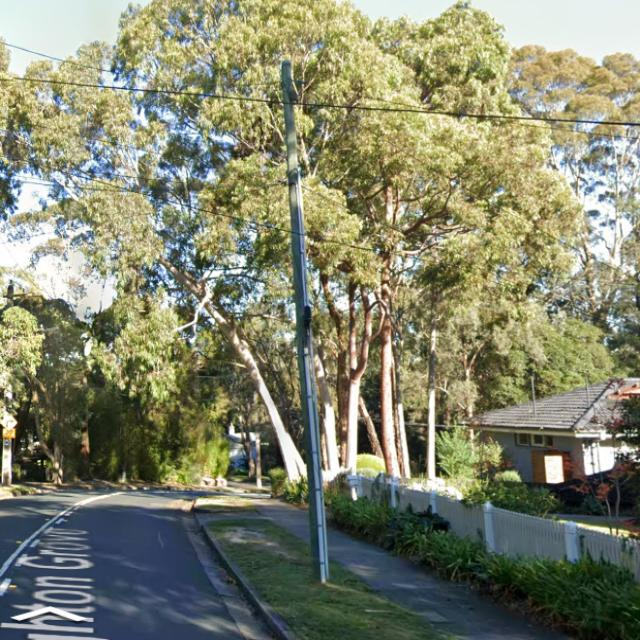timber-pole: (279, 59, 322, 582)
top mount suitable pole: (279, 59, 330, 583)
